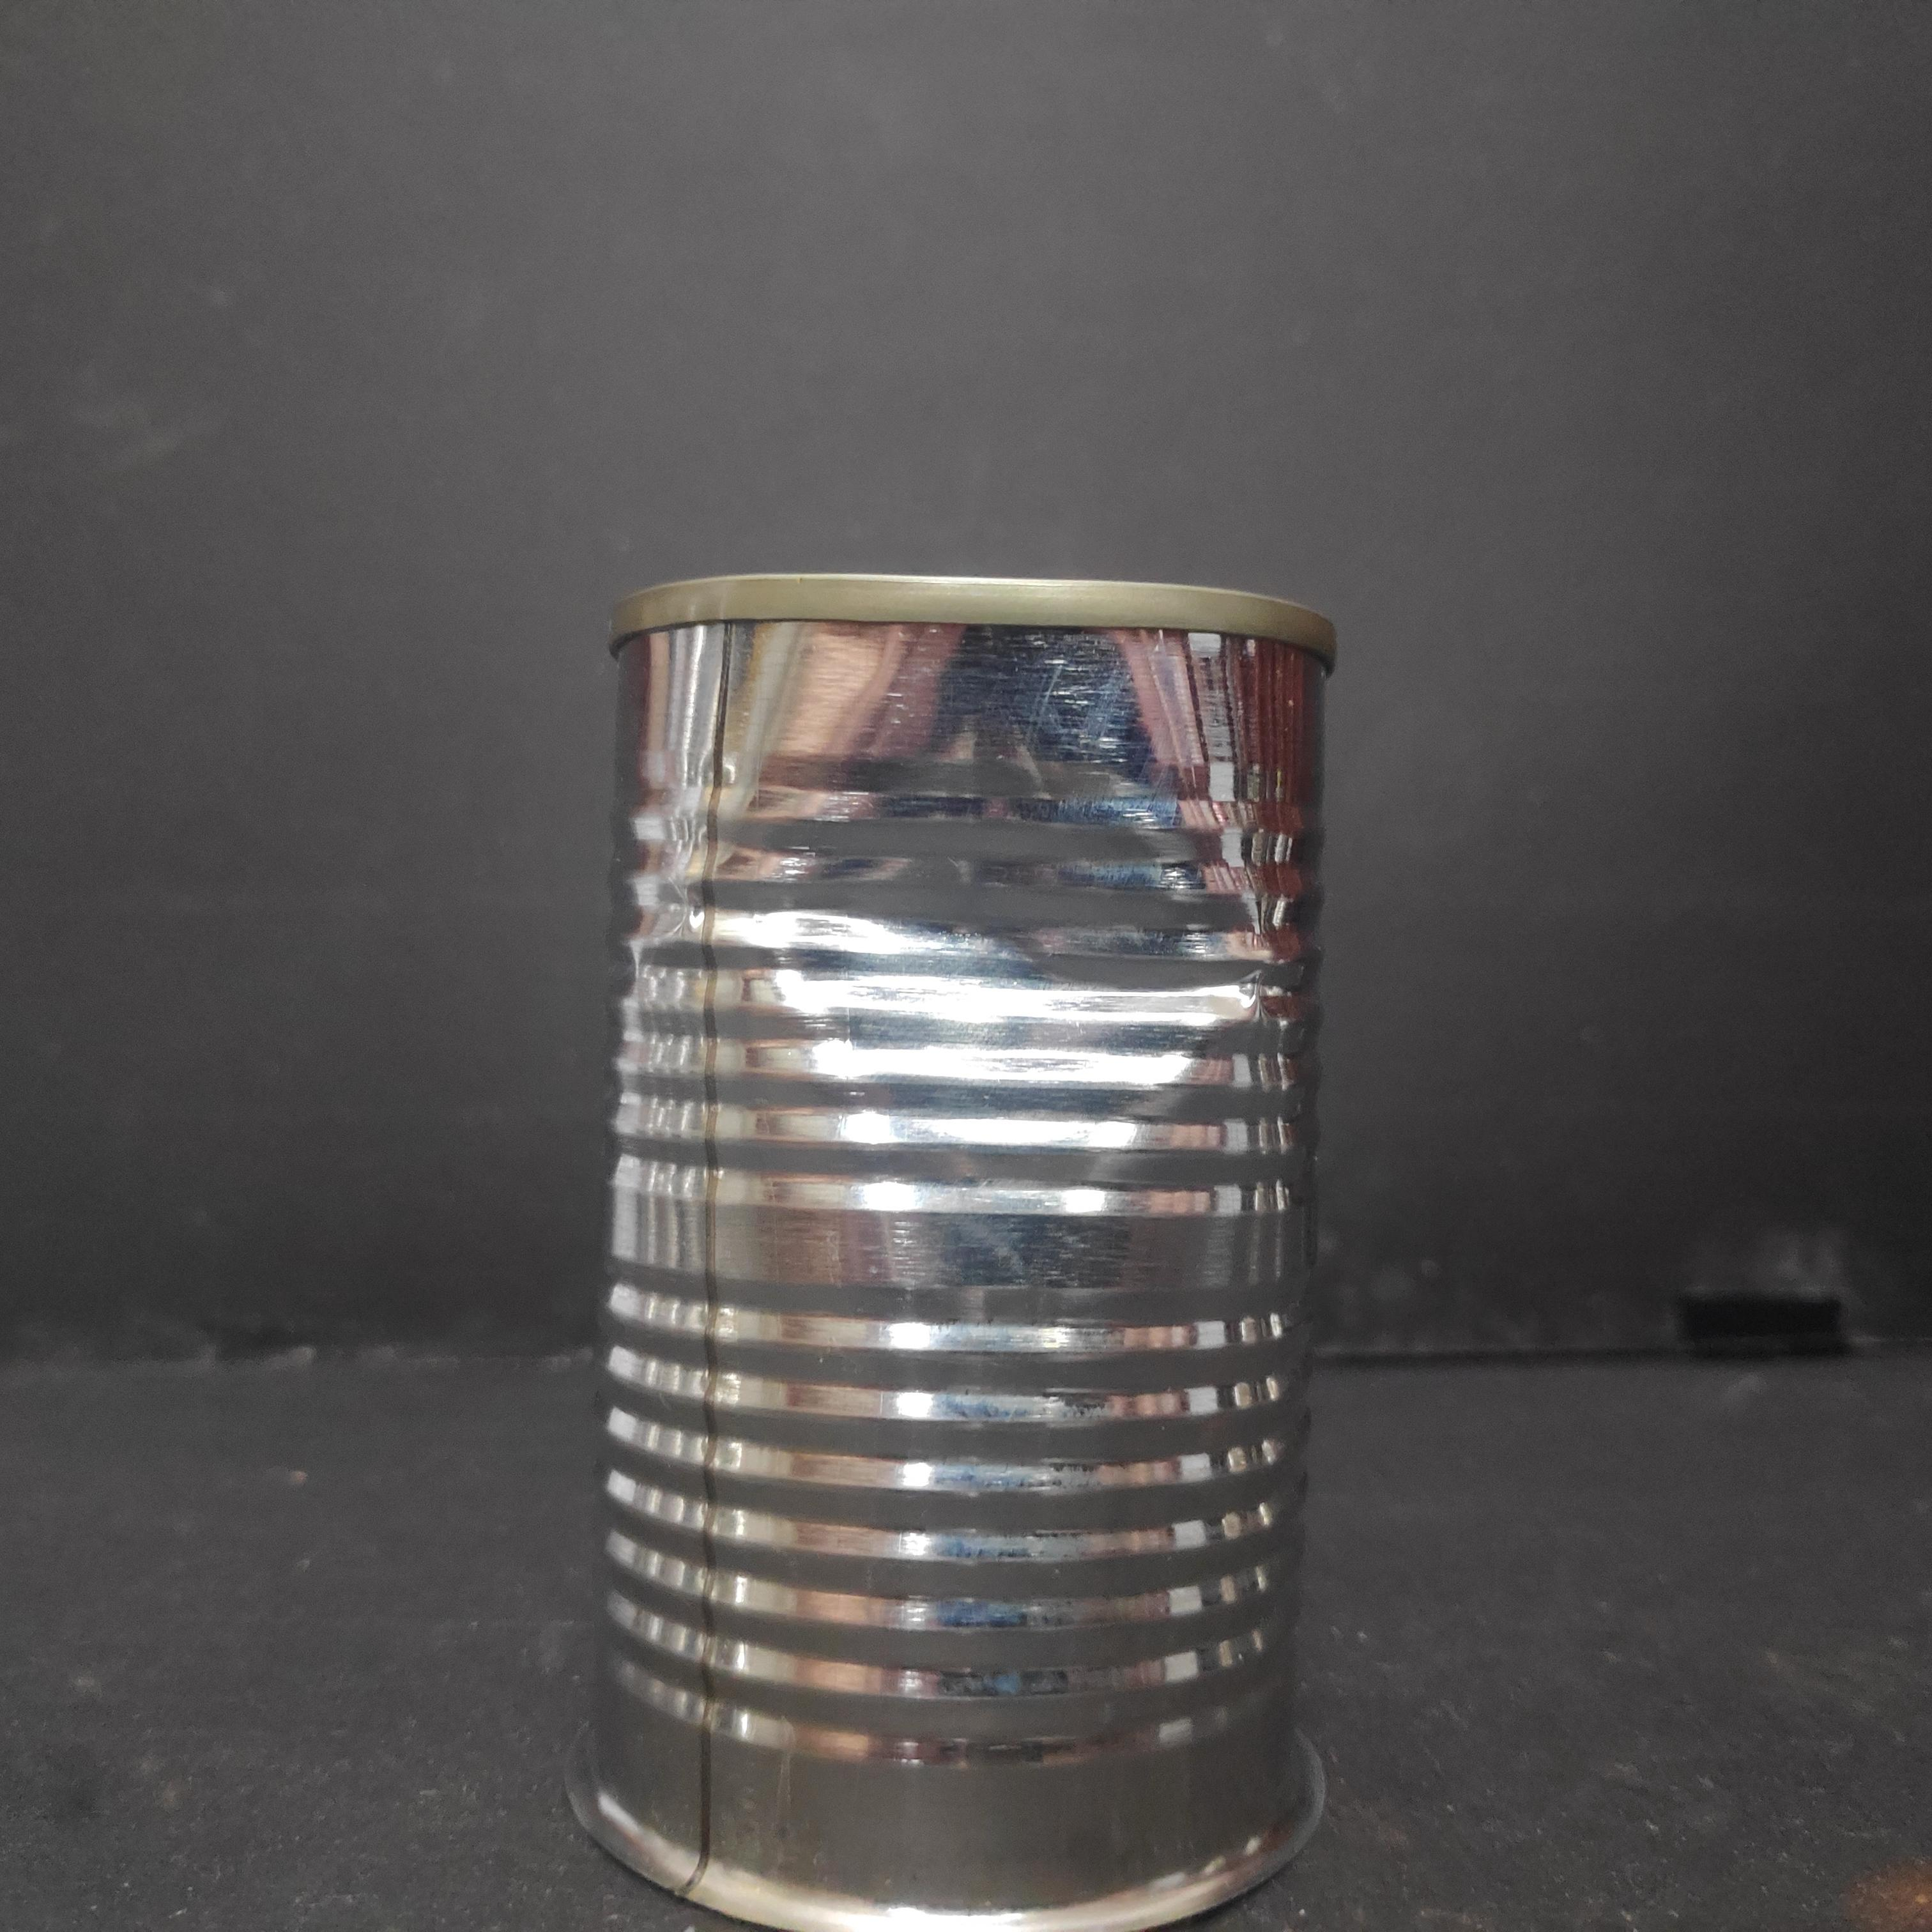Minor Defect: (593, 557, 1346, 1932)
